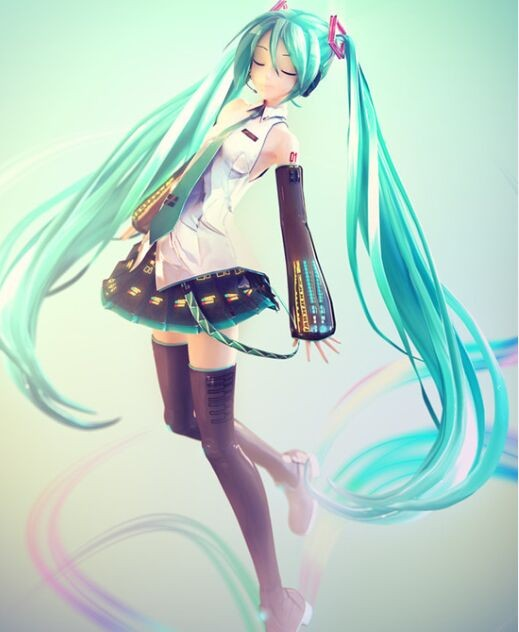demo: (151, 71, 372, 203)
plane: (99, 200, 336, 347), (232, 415, 373, 470)
